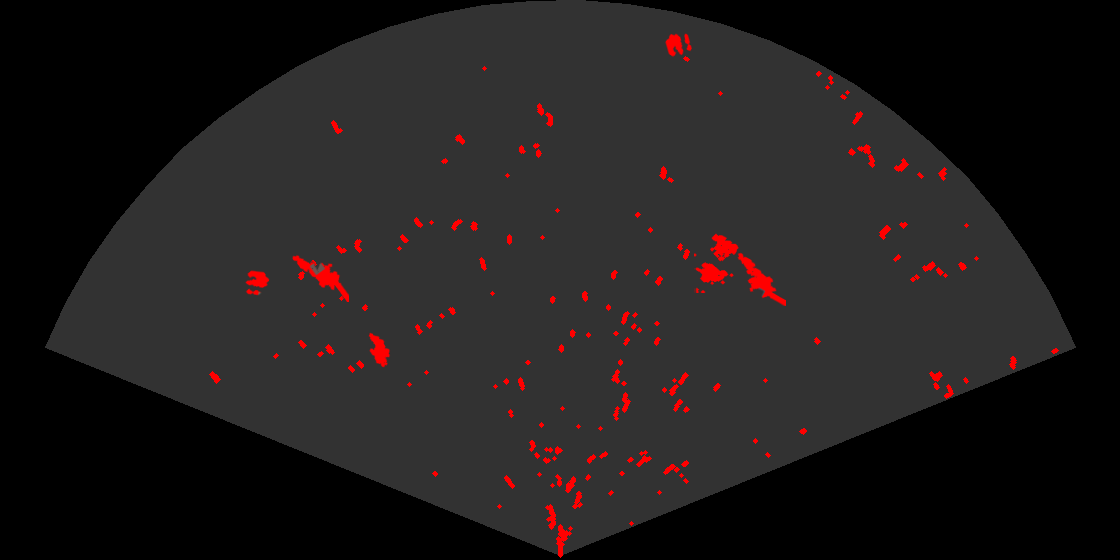AUV: (367, 331, 392, 369)
ball: (664, 32, 693, 59), (244, 269, 271, 297)
cage: (694, 232, 740, 293)
frogman: (291, 253, 349, 302), (736, 251, 786, 306)
